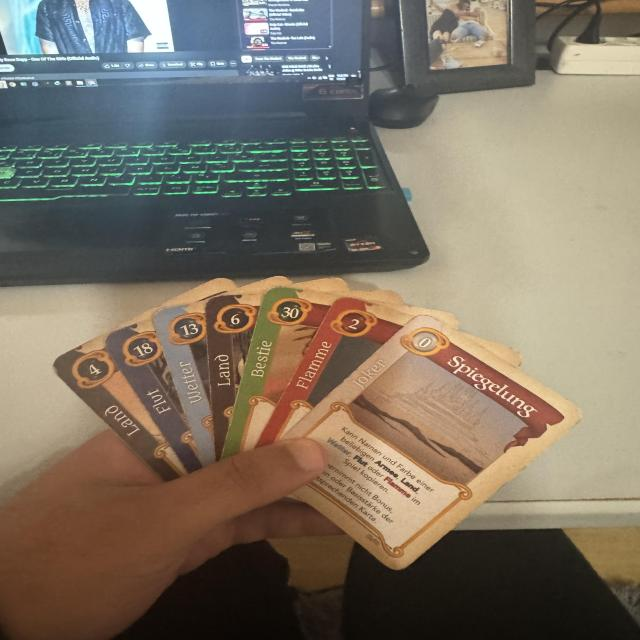Candle: (256, 295, 416, 447)
Dragon: (219, 286, 339, 462)
Earth Elemental: (46, 336, 190, 483)
Mirage: (282, 312, 589, 577)
Swamp: (103, 318, 202, 473)
Underground Caverns: (207, 293, 268, 463)
Whirlwind: (151, 299, 218, 469)
